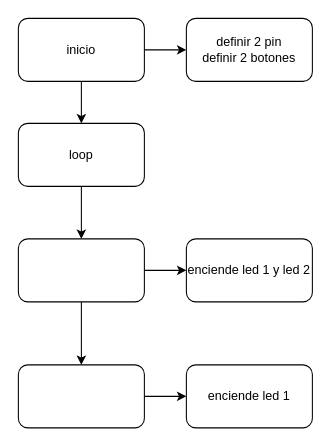
Some shapes in this 331 by 446 pixel diagram are drawn without their labels. The box of each missing label's shape, as (x1, y1, x2, y2) in pixels:
presiono boton 1: (17, 238, 144, 302)
presiono boton 2: (17, 364, 144, 428)
